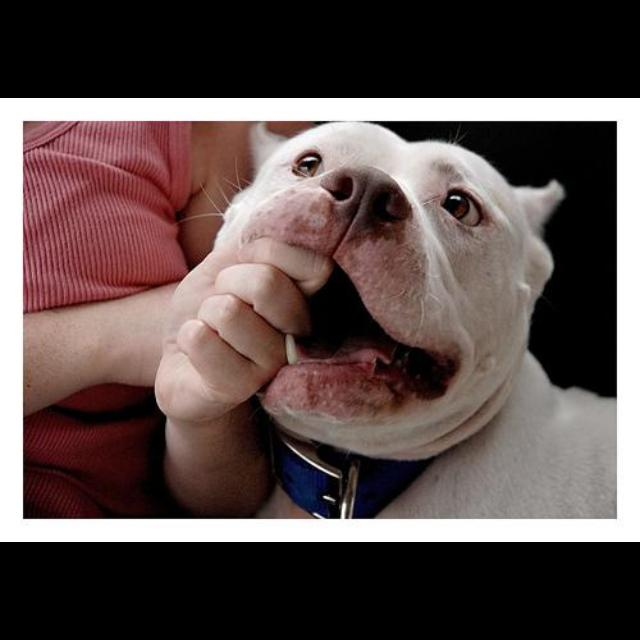amstaff: (155, 121, 617, 519)
